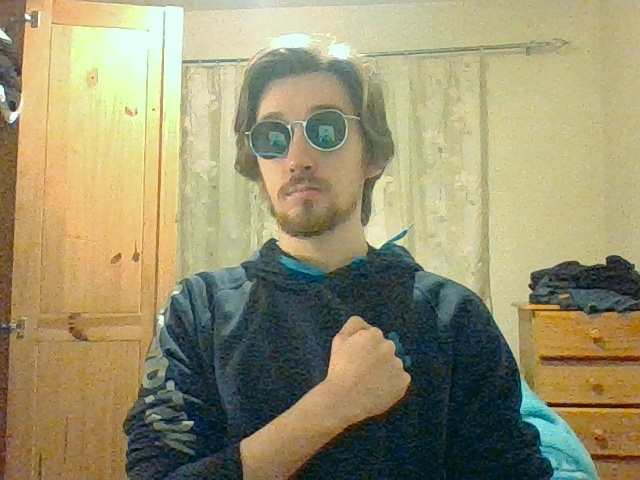my: (329, 314, 411, 416)
